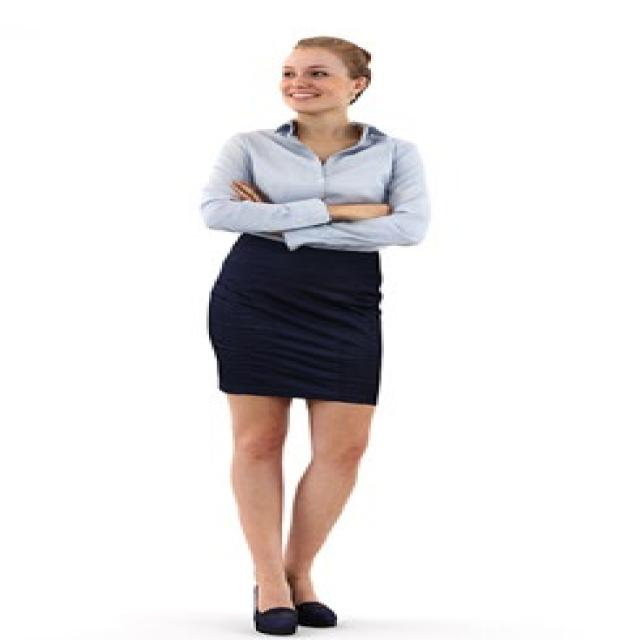standing: (197, 36, 447, 640)
